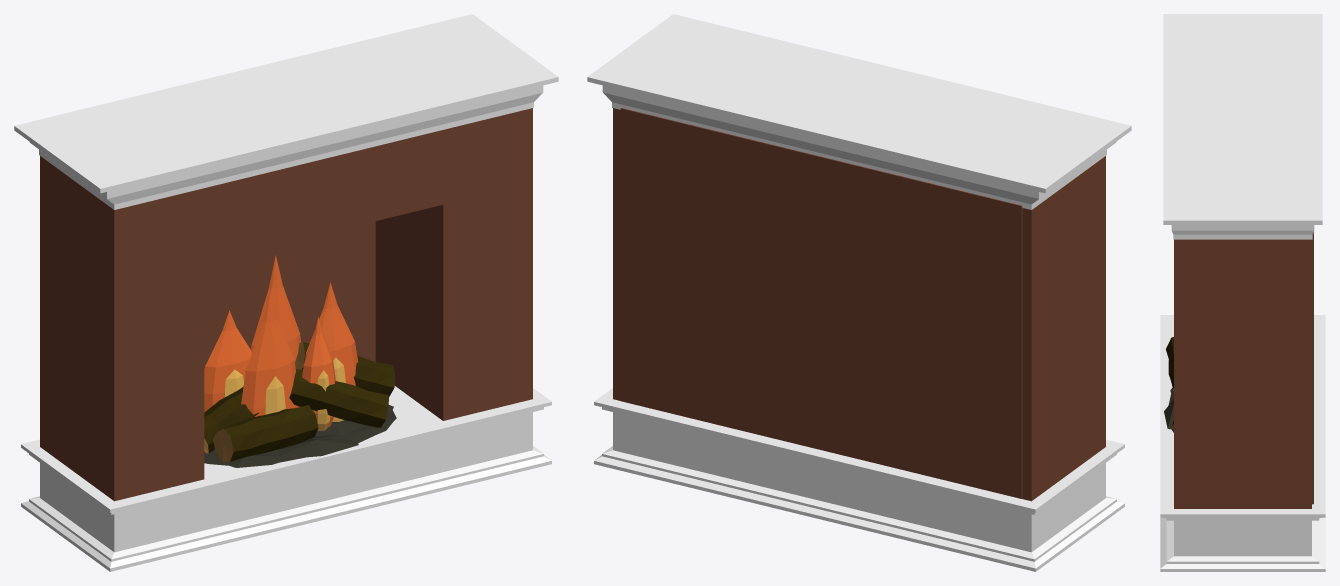
Rendered from fireplace.glb.
The picture shows the model from 3 angles, left to right: view 1: azimuth 30°, elevation 25°; view 2: azimuth 150°, elevation 25°; view 3: azimuth 270°, elevation 25°; orthographic projection. The views are drawn at different scales.
Parts seen in each view (by area): view 1: node-0; view 2: node-0; view 3: node-0.
Part boxes in pixels (x1,y1,x2,y2): node-0: (14,14,558,571); node-0: (587,14,1131,571); node-0: (1160,14,1325,571).
Bounding box in the file's own units: 7.91 × 6.33 × 2.67.
